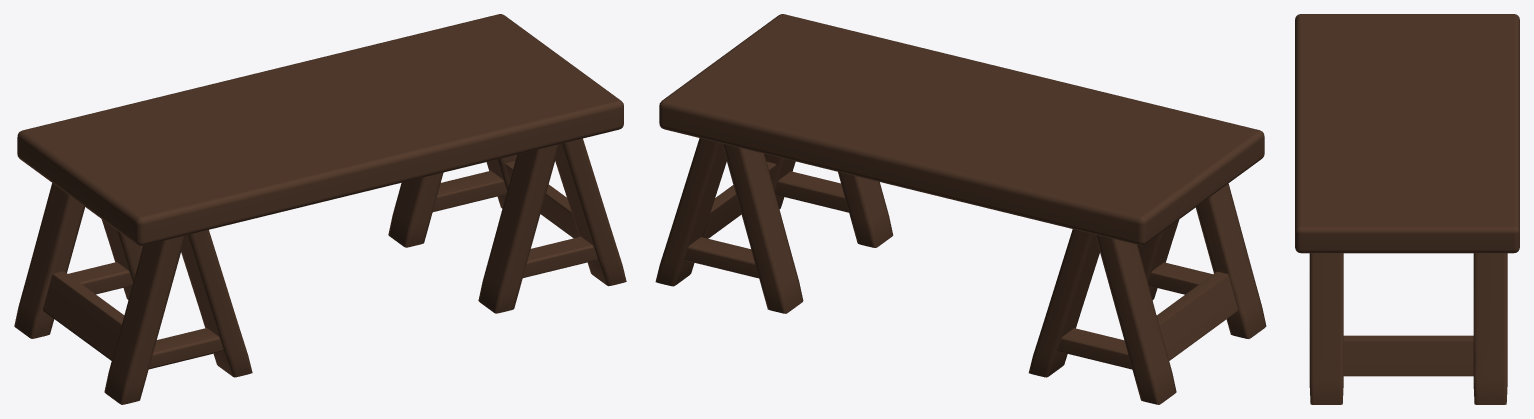
Rendered from TableTop.obj.
3 views of the same model, side by side, from view 1: azimuth 30°, elevation 25°; view 2: azimuth 150°, elevation 25°; view 3: azimuth 270°, elevation 25° (orthographic). The views are drawn at different scales.
Visible parts, largest first — view 1: TableDetailed; view 2: TableDetailed; view 3: TableDetailed.
Part boxes in pixels (<box>): TableDetailed: <box>14,14,626,404</box>; TableDetailed: <box>655,14,1266,404</box>; TableDetailed: <box>1295,14,1519,404</box>.
Bounding box in the file's own units: 3.39 × 1.22 × 1.44.
